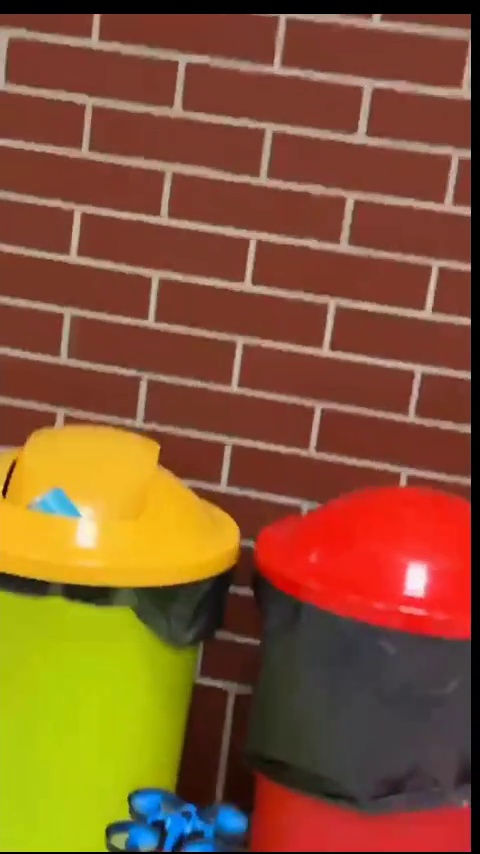drone: (103, 786, 253, 852)
